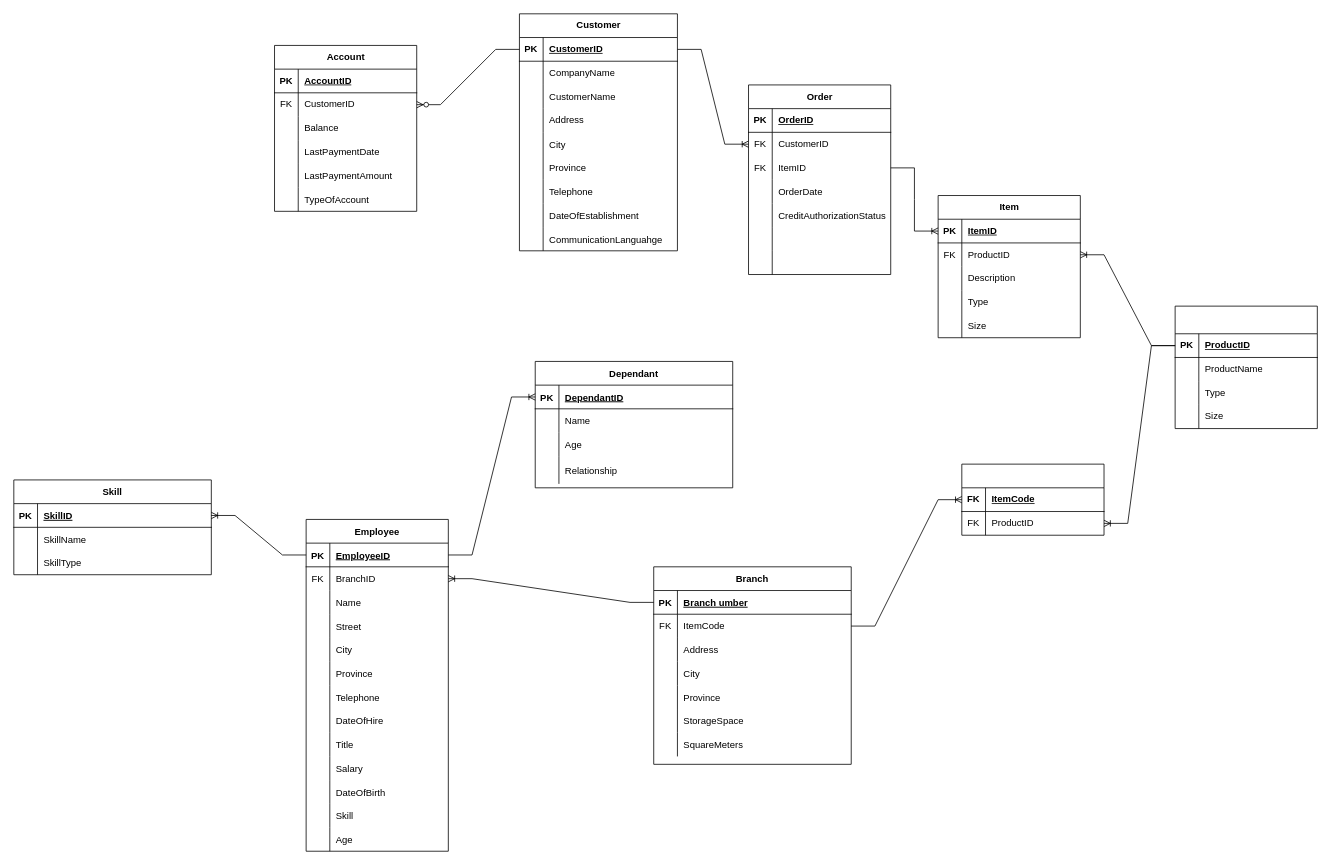
Image size: 1331x865. Some labels were removed from this diagram. Each missing label, with the box of its shape:
Products: (1174, 305, 1317, 429)
Sold: (961, 463, 1104, 535)
